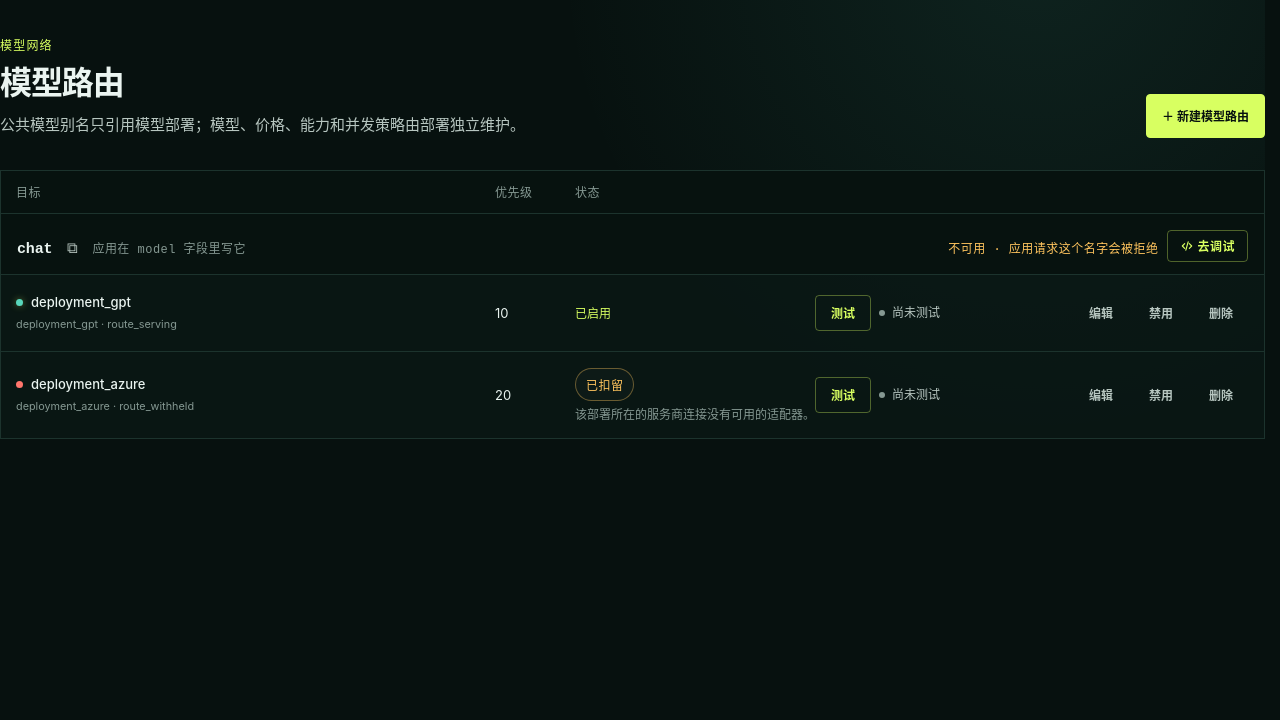
RoutesPage › does not claim the alias goes dark when the withheld route is the one being disabled
Step 1. Click the button "禁用" in the row of "route_withheld" → click(1161, 395), box [1133,373,1189,417]
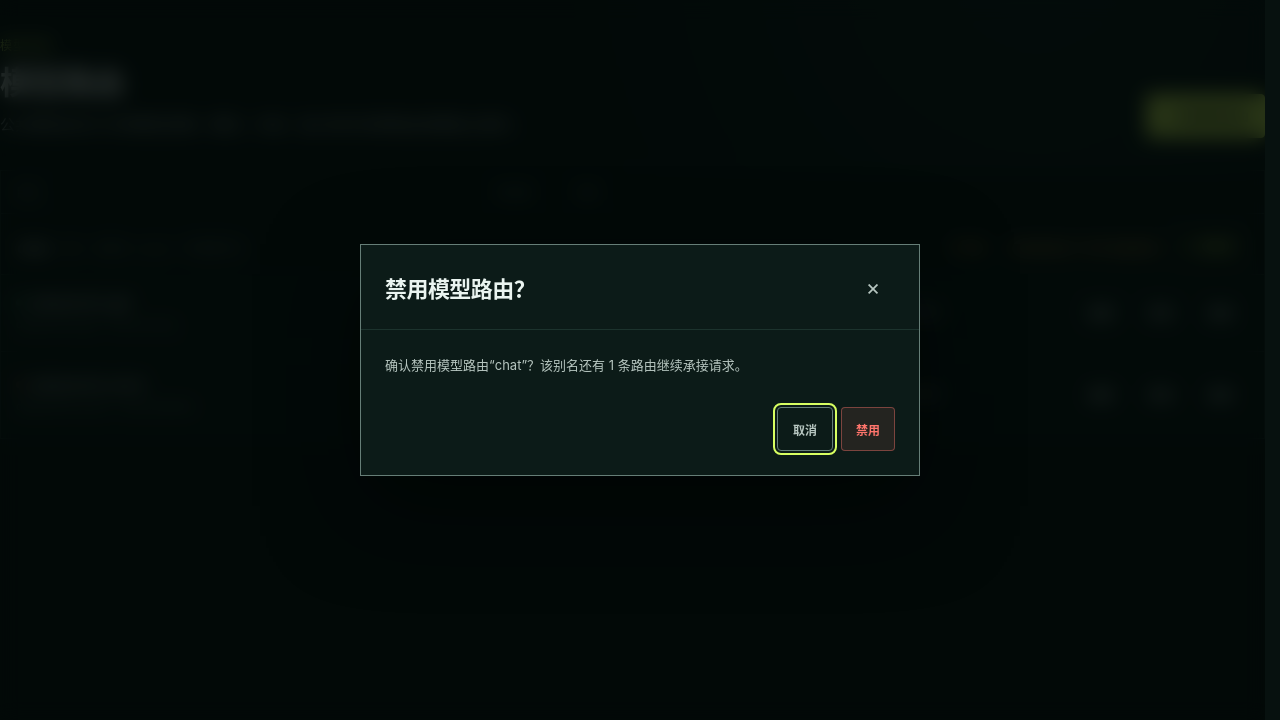
Expected: the text "确认禁用模型路由“chat”？该别名还有 1 条路由继续承接请求。" is shown, [385,357,748,373]
